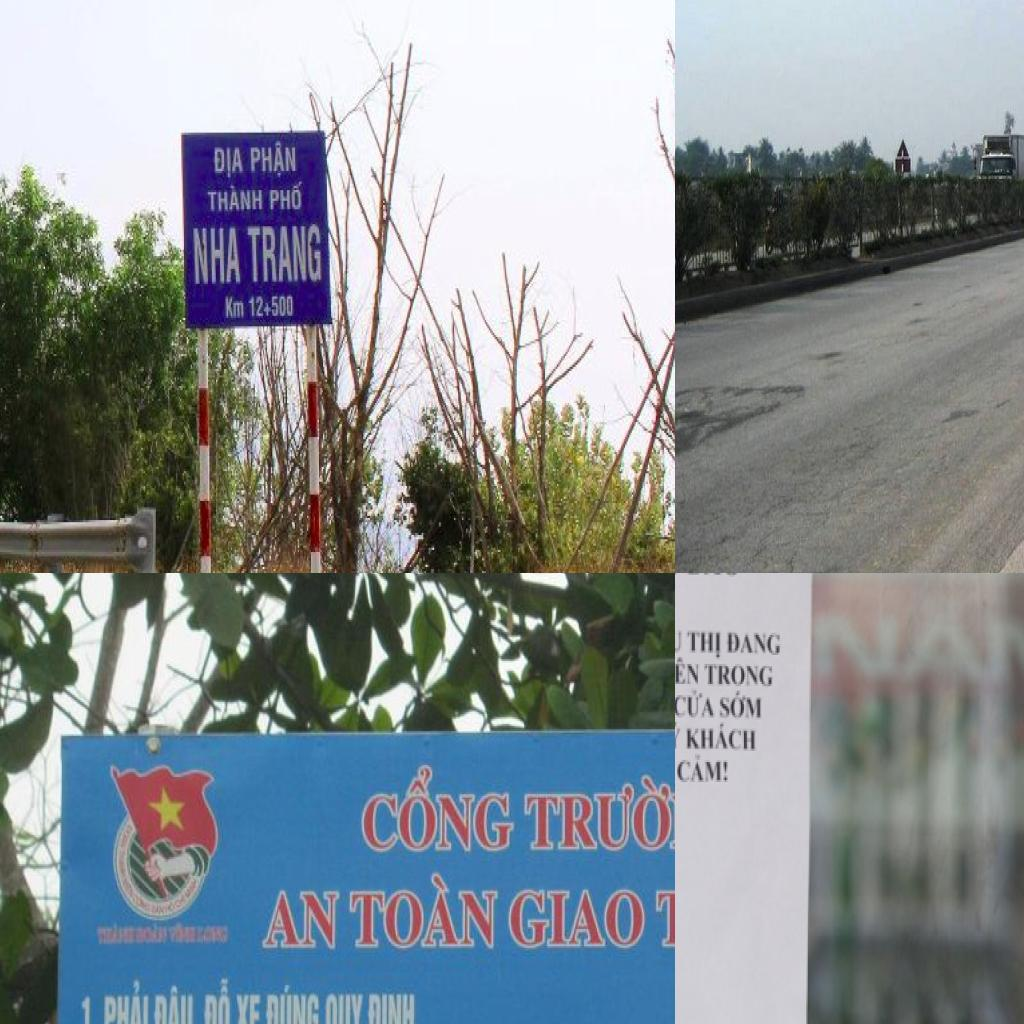text: (813, 606, 1024, 691), (362, 767, 516, 857), (521, 768, 675, 858), (346, 876, 504, 958), (510, 879, 648, 953), (256, 886, 344, 955), (247, 224, 323, 286), (190, 226, 242, 288), (265, 978, 322, 1024), (101, 978, 151, 1024), (684, 722, 758, 753), (153, 983, 203, 1024), (366, 988, 422, 1024), (703, 662, 775, 690), (206, 184, 266, 216), (250, 141, 298, 180), (676, 753, 730, 787), (726, 630, 783, 660), (719, 688, 765, 722), (324, 987, 366, 1024), (201, 976, 233, 1024), (675, 688, 719, 721), (212, 146, 247, 182), (686, 628, 723, 662), (270, 182, 304, 214), (234, 988, 264, 1024), (135, 920, 169, 948), (198, 922, 234, 948), (675, 654, 700, 688), (94, 924, 136, 944), (77, 988, 100, 1024), (224, 295, 246, 322)
